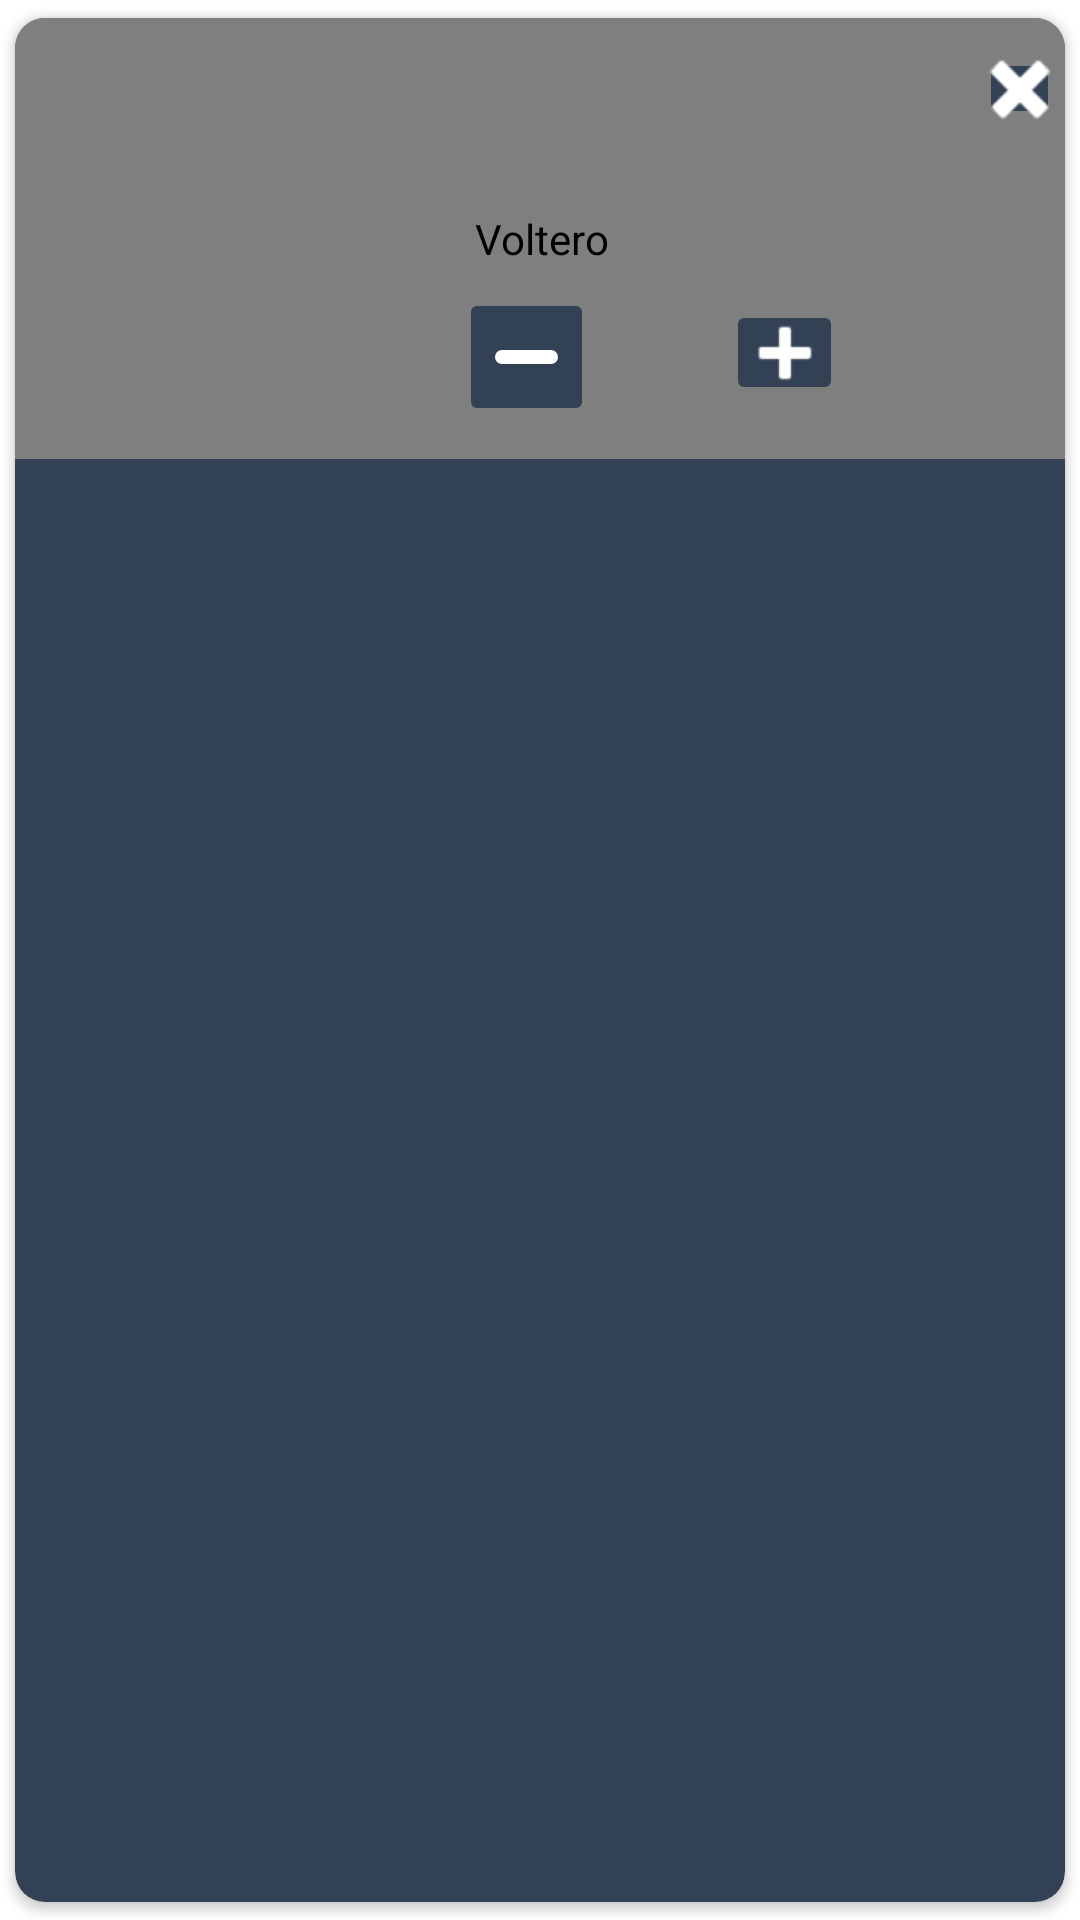

Icon bounding boxes for this 1080 × 1920 phone screenshot, format (x1, y1, x2, y2):
add: (738, 318, 831, 387)
delete: (990, 60, 1050, 119)
minus: (471, 306, 582, 408)
